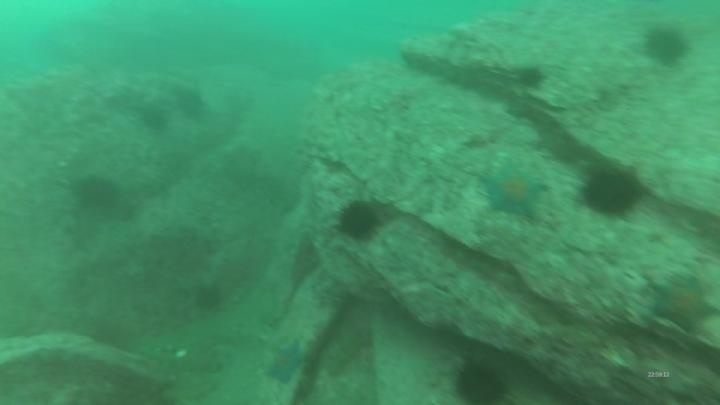echinus: (577, 163, 644, 221), (450, 356, 511, 404), (641, 23, 691, 69), (334, 198, 383, 243), (72, 173, 123, 214), (174, 86, 208, 123), (192, 281, 226, 314), (138, 103, 171, 134), (514, 63, 548, 92)
starfish: (648, 273, 719, 335), (480, 162, 549, 221), (261, 338, 309, 387)
